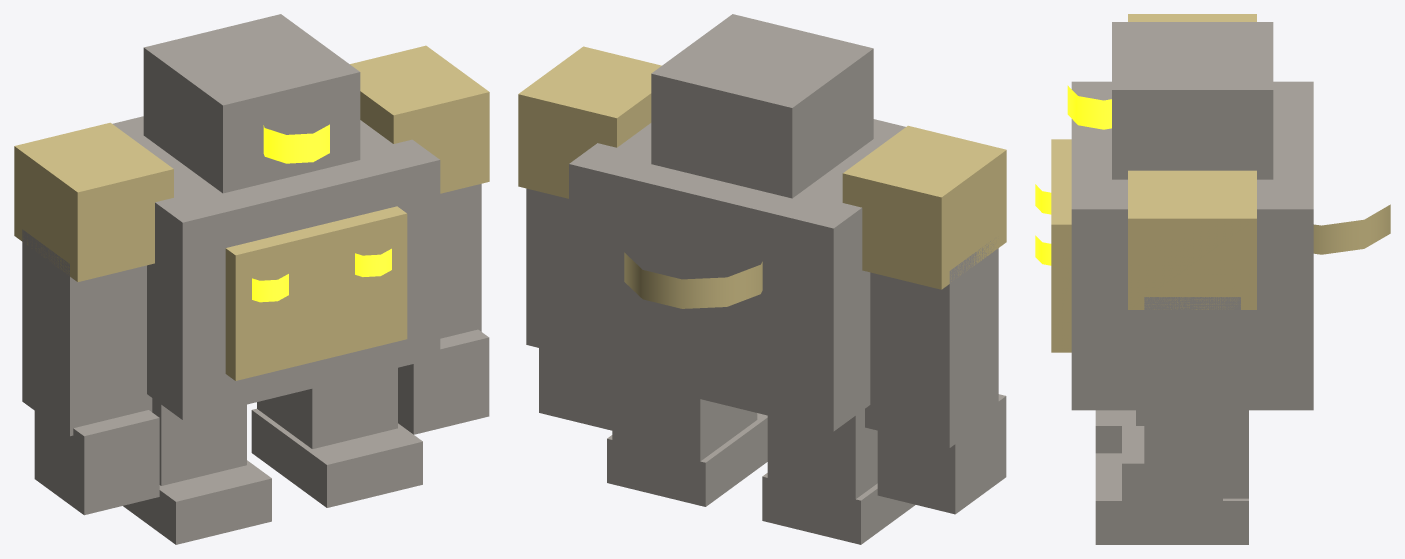
The model's file is golem_mechanical.glb.
3 views of the same model, side by side, from view 1: azimuth 30°, elevation 25°; view 2: azimuth 150°, elevation 25°; view 3: azimuth 270°, elevation 25° (orthographic). The views are drawn at different scales.
Visible parts, largest first — view 1: MechanicalArmor, MechanicalGears, MechanicalGlow; view 2: MechanicalArmor, MechanicalGears; view 3: MechanicalArmor, MechanicalGears, MechanicalGlow.
Boxes of the visible parts, x1,y1,x2,y2 form: MechanicalArmor: (22,14,489,544); MechanicalGears: (14,45,489,380); MechanicalGlow: (252,124,391,302); MechanicalArmor: (526,14,1006,544); MechanicalGears: (518,46,1006,308); MechanicalArmor: (1071,22,1313,544); MechanicalGears: (1051,14,1390,352); MechanicalGlow: (1035,85,1111,265).
Bounding box in the file's own units: 1.2 × 1.17 × 0.8812.
